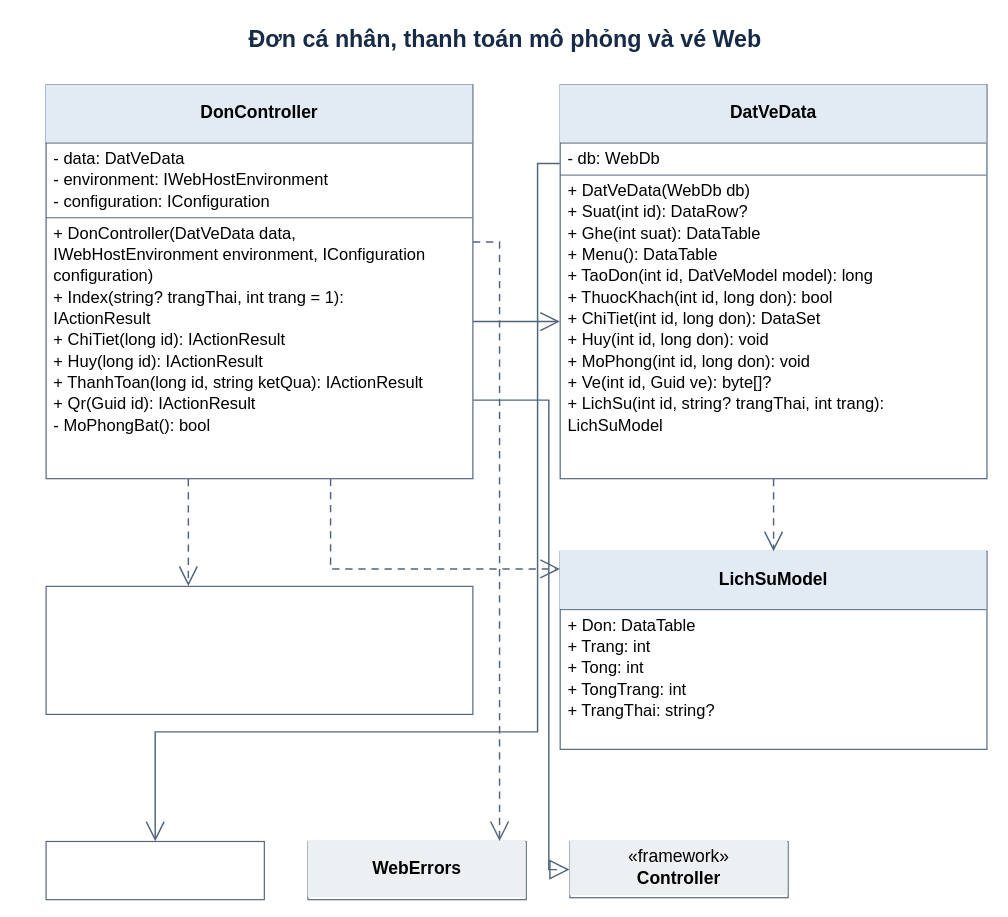
This 1008x917 diagram has some shape labels left out. The shapes that lost their labels are listed below. From the top down, each one's centre as x and y in pixels, then its label:
At pixel 259 650: "DonModel + ChiTiet: DataSet + ChoPhepMoPhong: bool".
At pixel 154 870: "WebDb".
